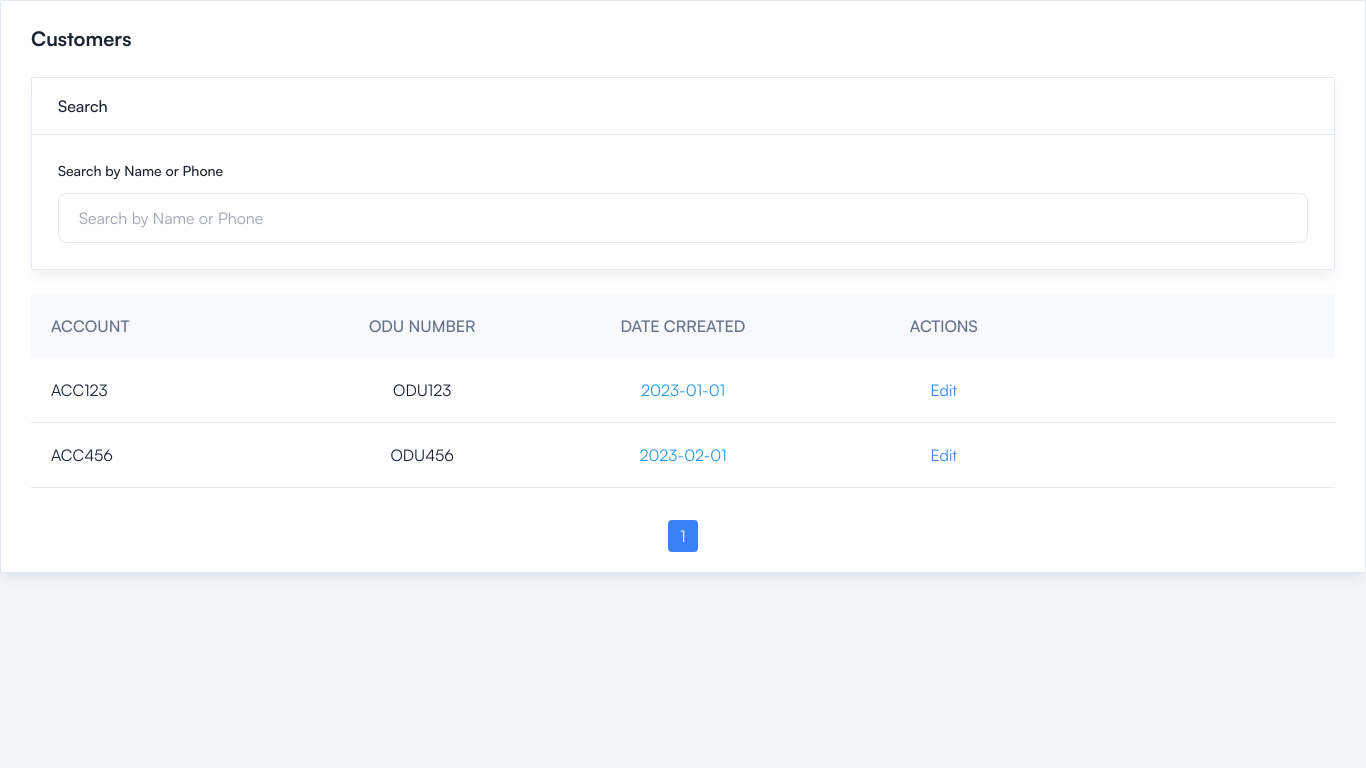
Test: RoutersTable › opens and saves edits in the modal
The image size is (1366, 768).
# Simulate opening the edit modal
Click the button with test id "router-edit-1": (944,390) [930, 378, 957, 402]
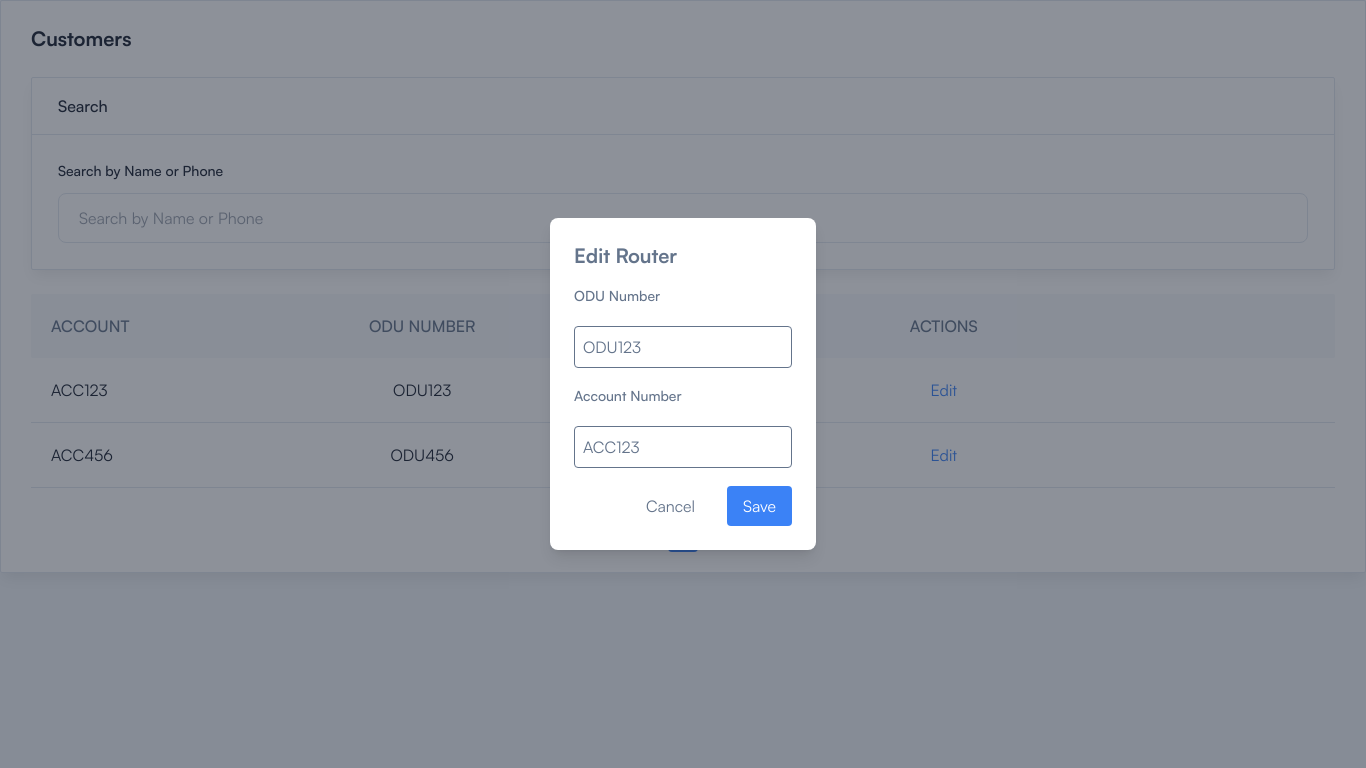
Now the heading "Edit Router" is shown, box [574, 243, 677, 268]
